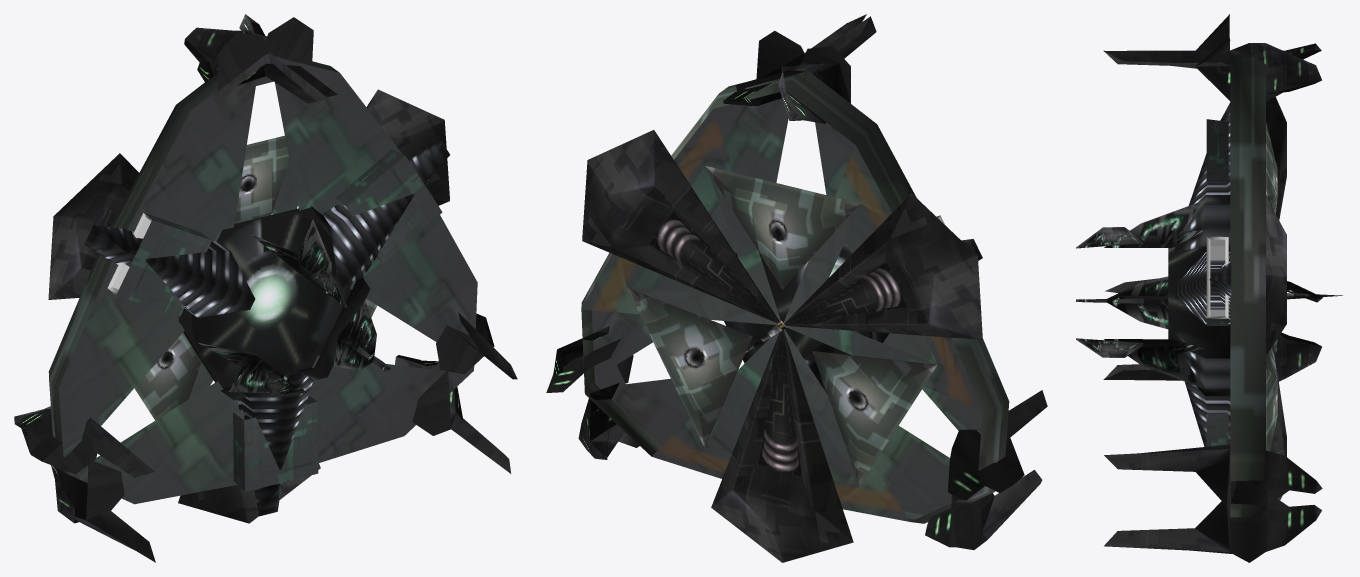
File: ss103_static.obj
The picture shows the model from 3 angles, left to right: view 1: azimuth 30°, elevation 25°; view 2: azimuth 150°, elevation 25°; view 3: azimuth 270°, elevation 25°; orthographic projection. The views are drawn at different scales.
Visible parts, largest first — view 1: frm-newrevolv, frm-extru63, frm-cube6, frm-revol11, frm-cube9, frm-landing_bay_1, frm-east_bay_11_6_1, frm-landing_bay_2, frm-extru69_12, frm-extru69_8, frm-extru69_3, frm-cube10 (+11 smaller); view 2: frm-newrevolv, frm-revol10, frm-revol8, frm-revol11, frm-cube11, frm-cube8, frm-cube12, frm-extru69_3, frm-extru69_8, frm-extru69_12, frm-extru69_11, frm-extru63 (+2 smaller); view 3: frm-newrevolv, frm-extru69_9, frm-extru69_10, frm-extru69_11, frm-extru63, frm-revol8, frm-cube6, frm-cube9, frm-cube10, frm-extru69_8, frm-extru75, frm-extru77 (+12 smaller).
Part boxes in pixels (bbox=[...]): frm-newrevolv: bbox=[48, 54, 477, 504]; frm-extru63: bbox=[178, 206, 370, 400]; frm-cube6: bbox=[84, 225, 255, 318]; frm-revol11: bbox=[48, 153, 138, 299]; frm-cube9: bbox=[317, 140, 449, 287]; frm-landing_bay_1: bbox=[335, 149, 442, 263]; frm-east_bay_11_6_1: bbox=[233, 395, 318, 491]; frm-landing_bay_2: bbox=[107, 212, 211, 315]; frm-extru69_12: bbox=[184, 27, 328, 103]; frm-extru69_8: bbox=[51, 460, 155, 562]; frm-extru69_3: bbox=[14, 406, 154, 477]; frm-cube10: bbox=[237, 370, 313, 516]; frm-newrevolv: bbox=[581, 67, 1009, 523]; frm-revol10: bbox=[711, 330, 853, 562]; frm-revol8: bbox=[582, 130, 779, 323]; frm-revol11: bbox=[784, 193, 982, 339]; frm-cube11: bbox=[627, 288, 752, 447]; frm-cube8: bbox=[705, 165, 859, 289]; frm-cube12: bbox=[812, 351, 937, 485]; frm-extru69_3: bbox=[948, 390, 1047, 500]; frm-extru69_8: bbox=[925, 470, 1042, 549]; frm-extru69_12: bbox=[778, 16, 876, 123]; frm-extru69_11: bbox=[723, 14, 866, 105]; frm-extru63: bbox=[724, 244, 889, 363]; frm-newrevolv: bbox=[1230, 55, 1265, 517]; frm-extru69_9: bbox=[1104, 499, 1321, 562]; frm-extru69_10: bbox=[1104, 444, 1322, 506]; frm-extru69_11: bbox=[1104, 37, 1321, 101]; frm-extru63: bbox=[1168, 195, 1230, 395]; frm-revol8: bbox=[1266, 197, 1286, 355]; frm-cube6: bbox=[1175, 102, 1230, 252]; frm-cube9: bbox=[1175, 252, 1231, 324]; frm-cube10: bbox=[1181, 351, 1230, 446]; frm-extru69_8: bbox=[1103, 332, 1321, 381]; frm-extru75: bbox=[1104, 339, 1203, 388]; frm-extru77: bbox=[1103, 276, 1181, 329].
Bounding box in the file's own units: 91.95 × 98.04 × 47.98.
